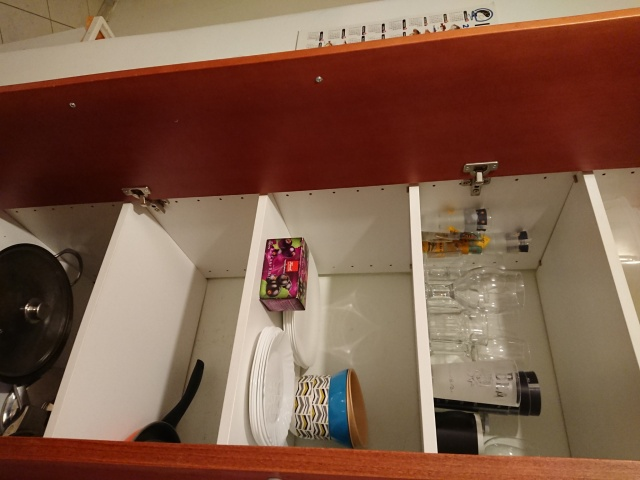Franck Black Currant Tea 60g: (257, 235, 311, 314)
